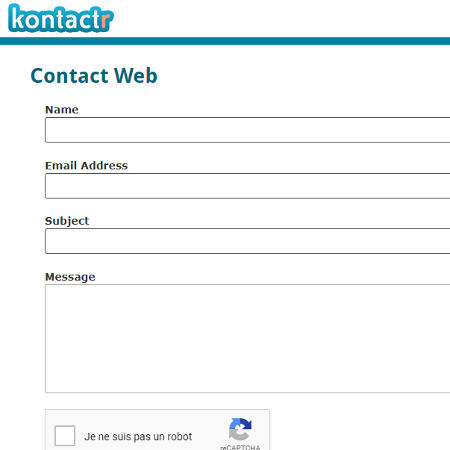_form_: (34, 34, 450, 450)
checkbox: (52, 423, 76, 448)
checkbox_with_label: (48, 421, 193, 449)
field: (43, 282, 450, 396), (44, 170, 450, 202), (43, 115, 449, 145), (43, 227, 450, 256)
field_with_label: (42, 272, 449, 397), (41, 104, 449, 147), (42, 161, 450, 204), (41, 216, 450, 258)
